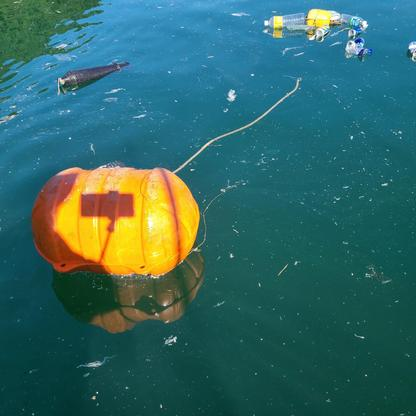can: (349, 38, 368, 50), (407, 41, 416, 61), (316, 24, 329, 34), (348, 28, 362, 36)
plastic bottle: (263, 13, 305, 28), (341, 12, 367, 28)
